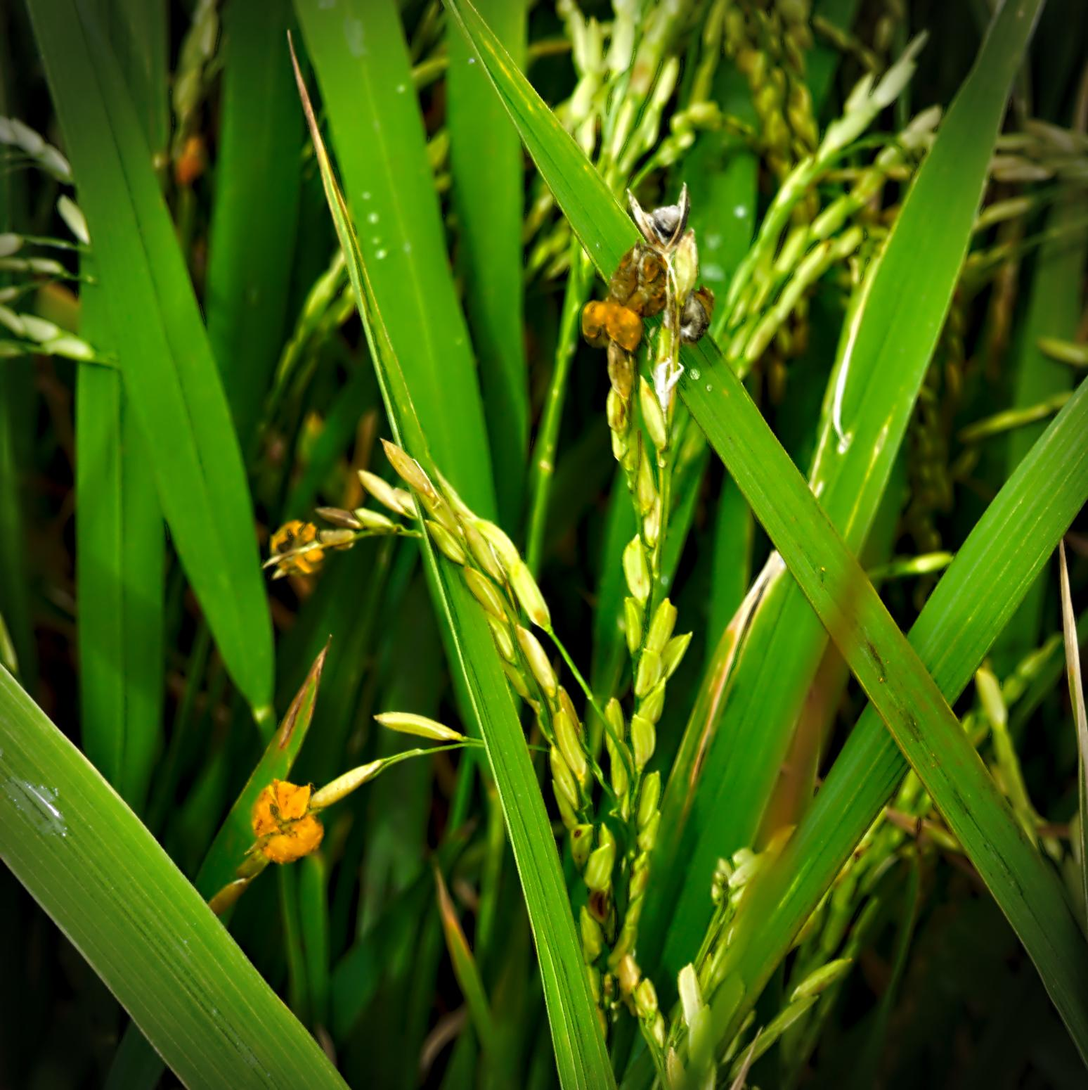False Smut: (225, 759, 355, 861), (541, 253, 664, 355), (232, 485, 330, 598)
